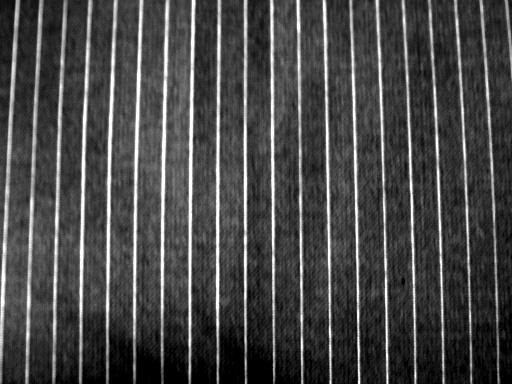fabric_perfect: (2, 2, 508, 384)
